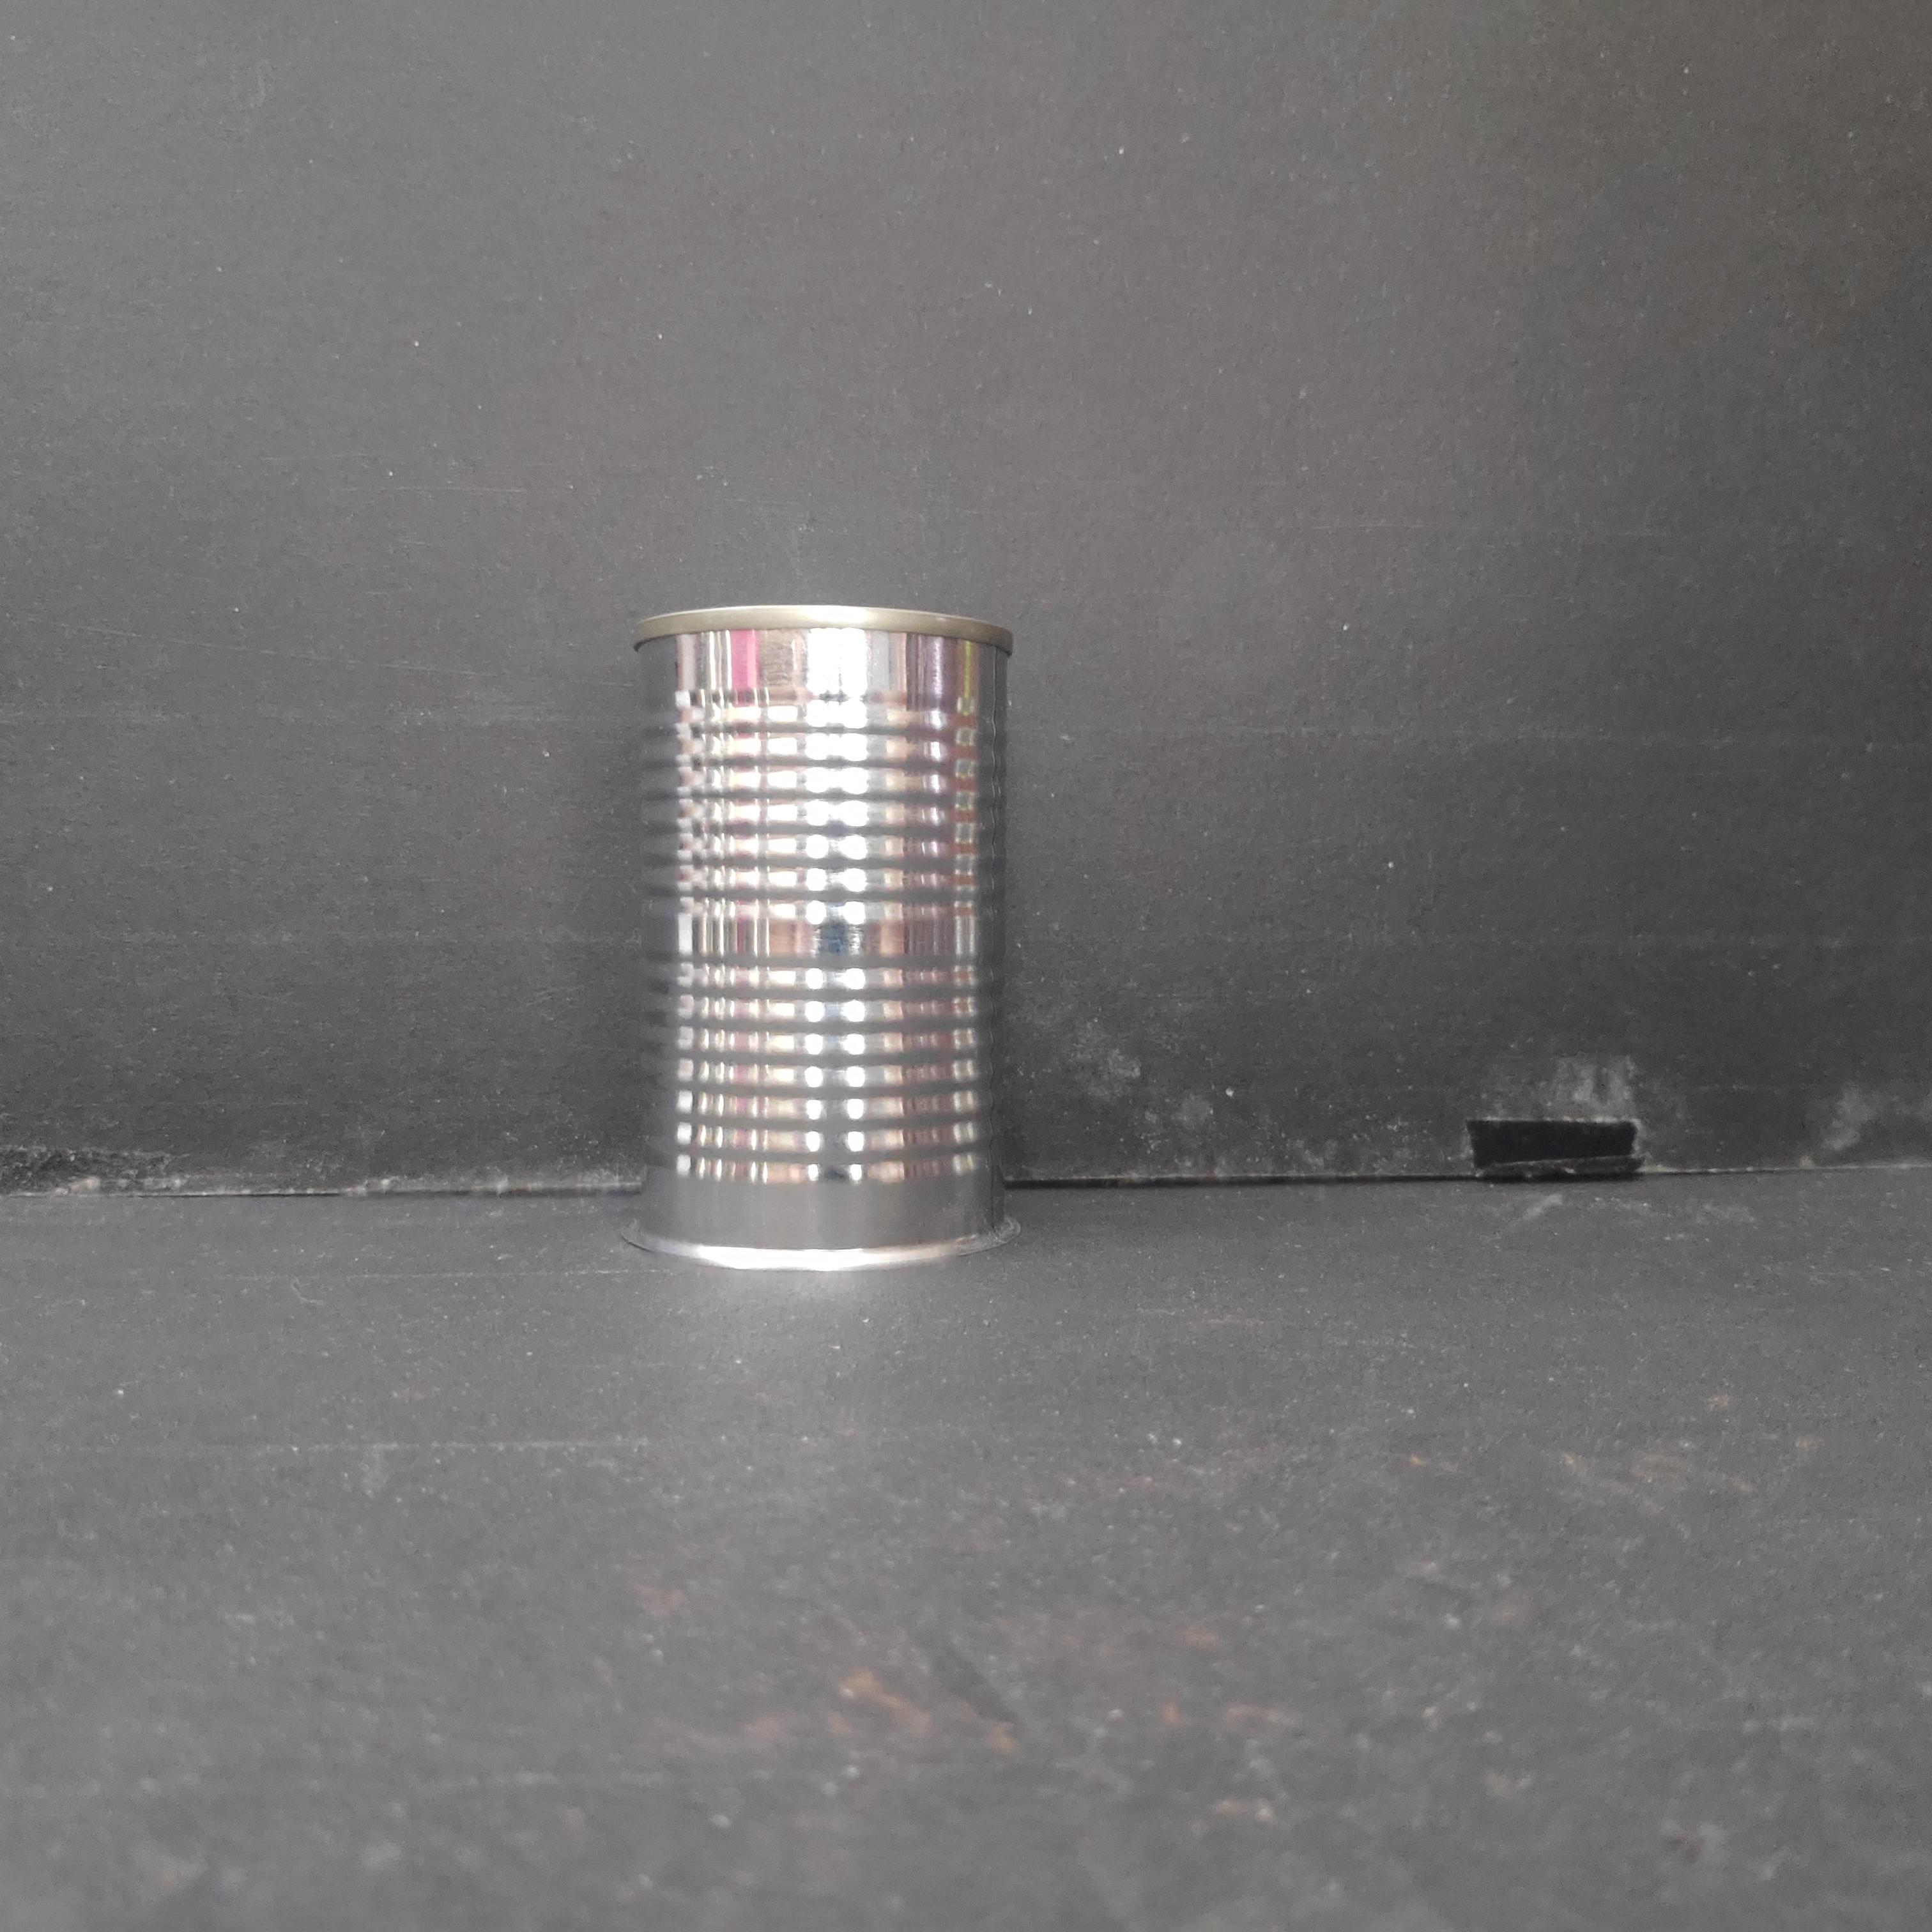No defect: (625, 594, 1021, 1276)
